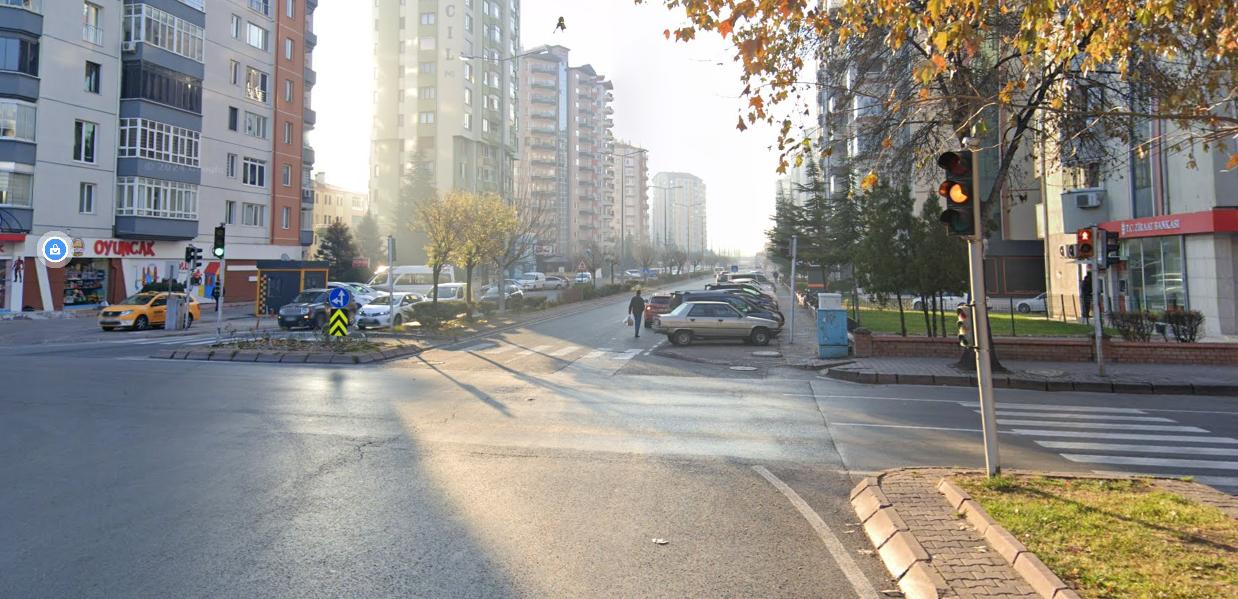greenlight: (213, 226, 226, 258)
yellowlight: (943, 151, 980, 242)
